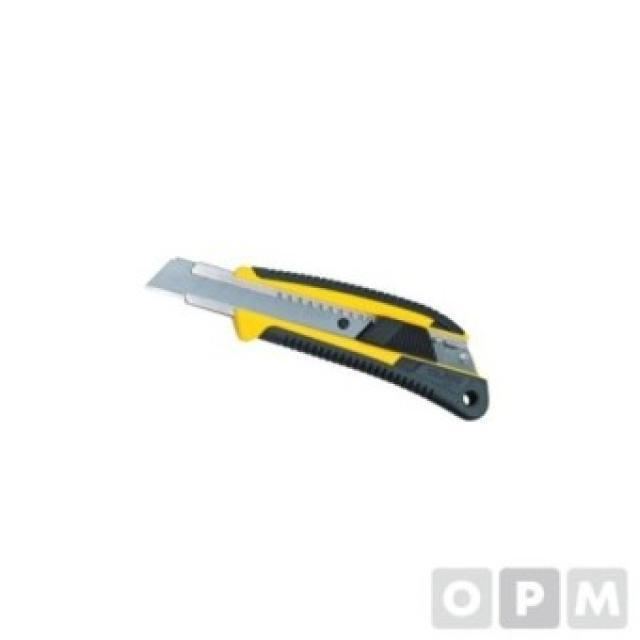cutter: (147, 238, 491, 434)
